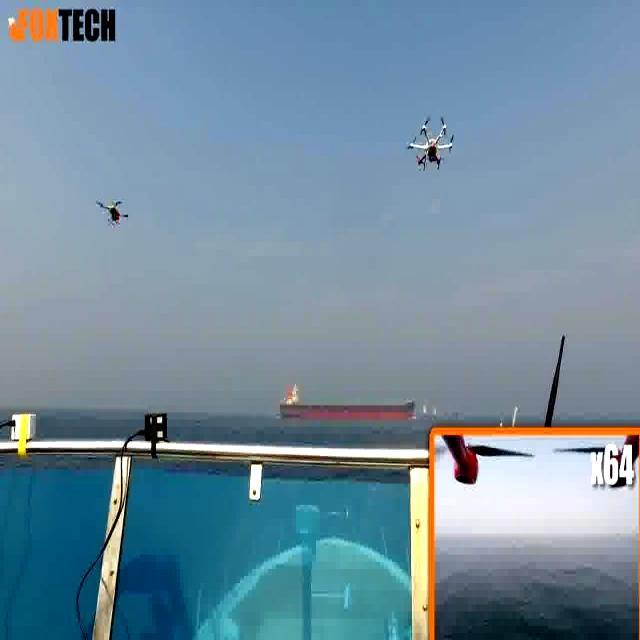drone: (403, 113, 460, 176), (95, 199, 129, 225)
